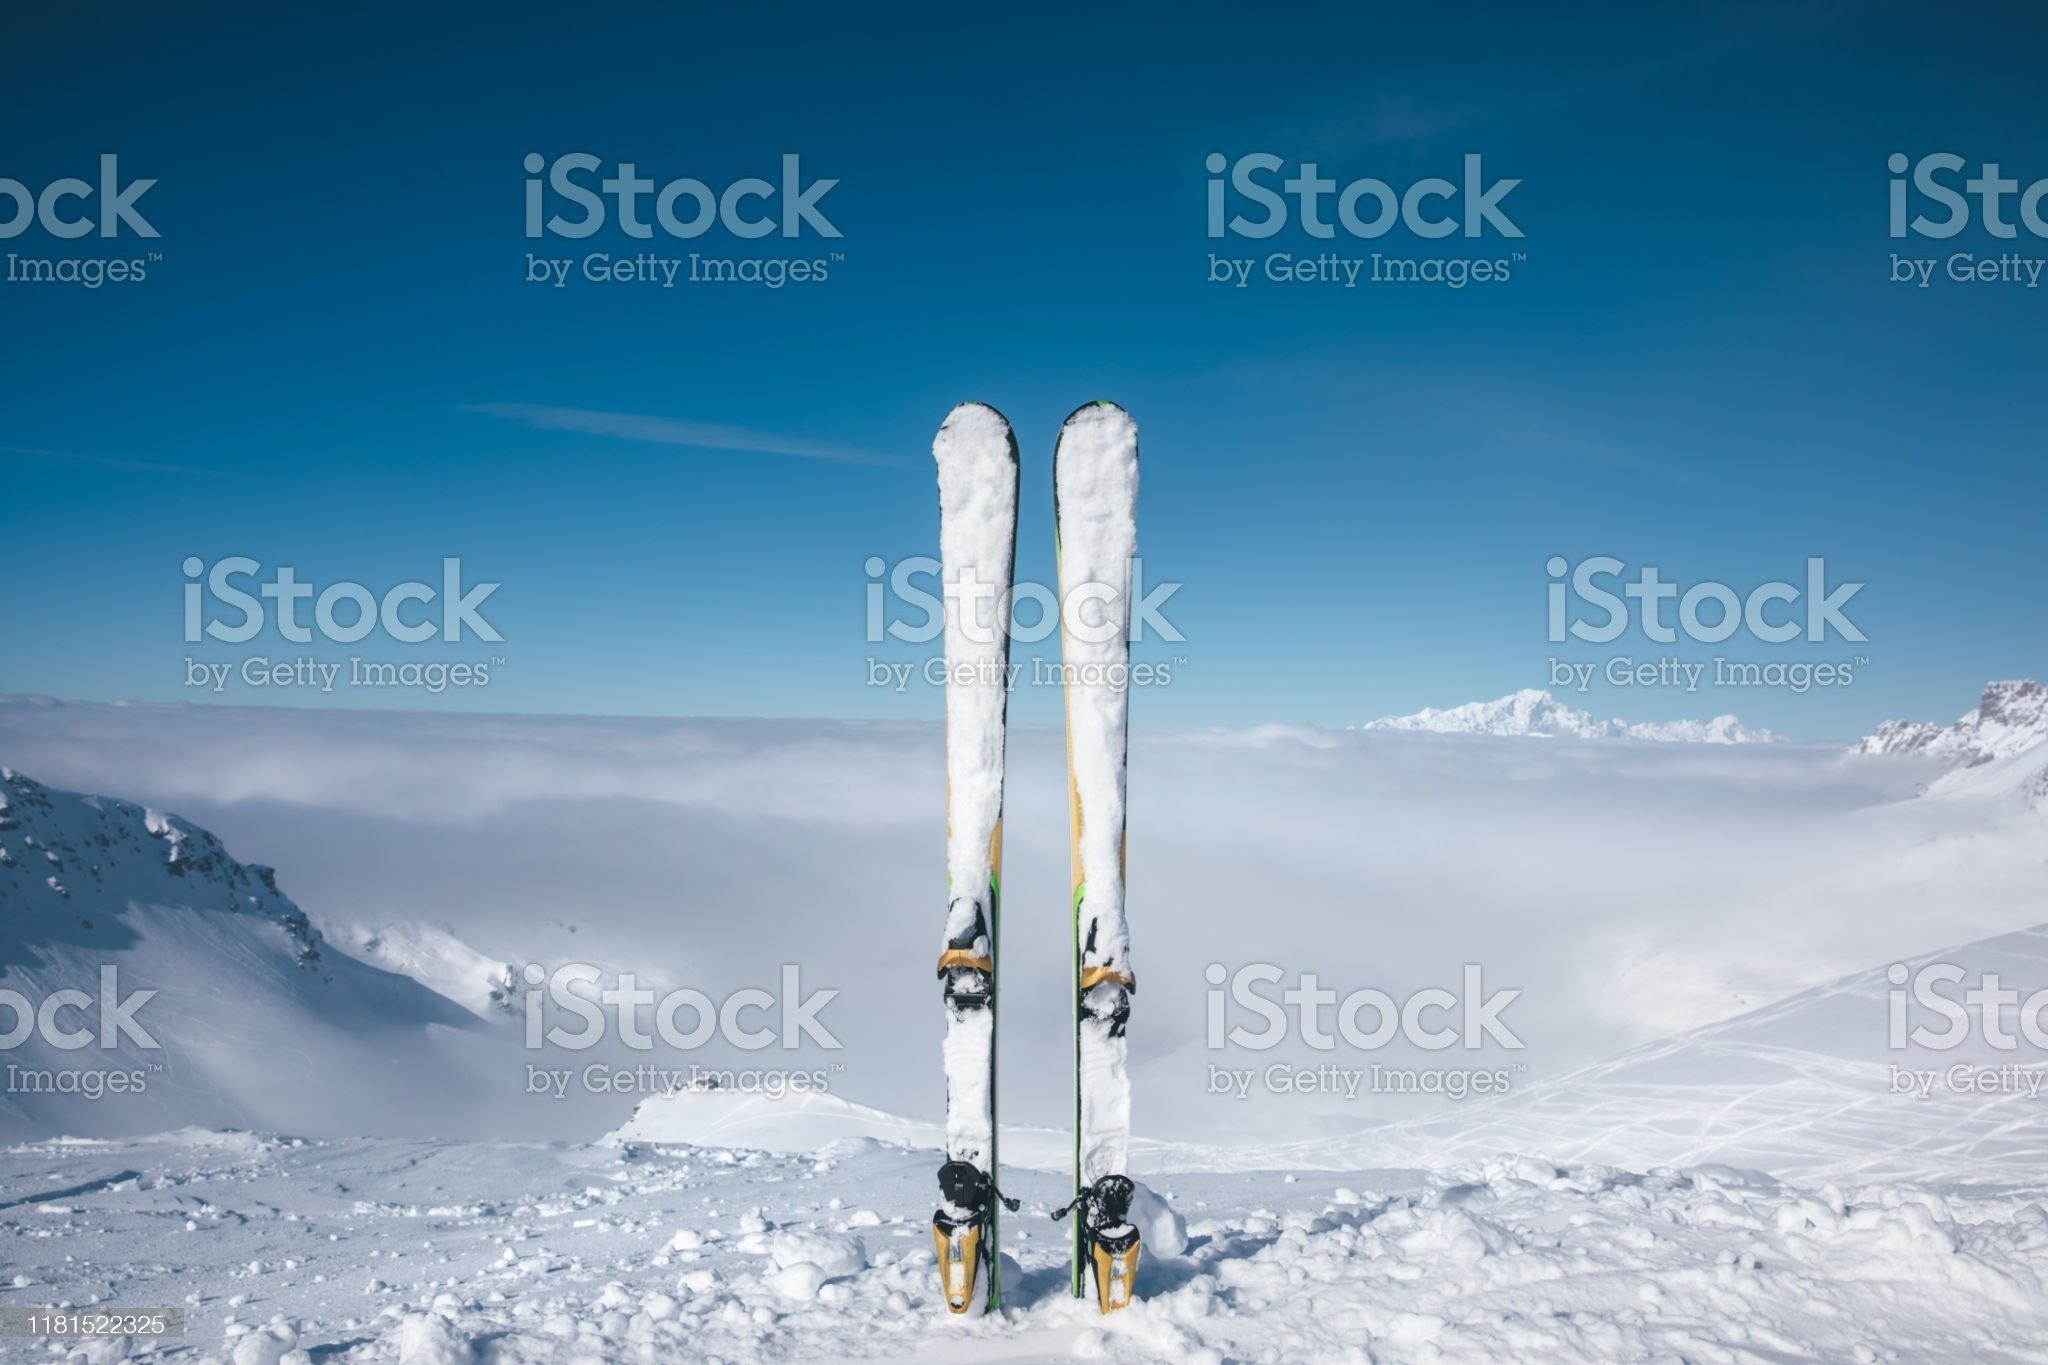Skis: (877, 356, 1305, 1365)
